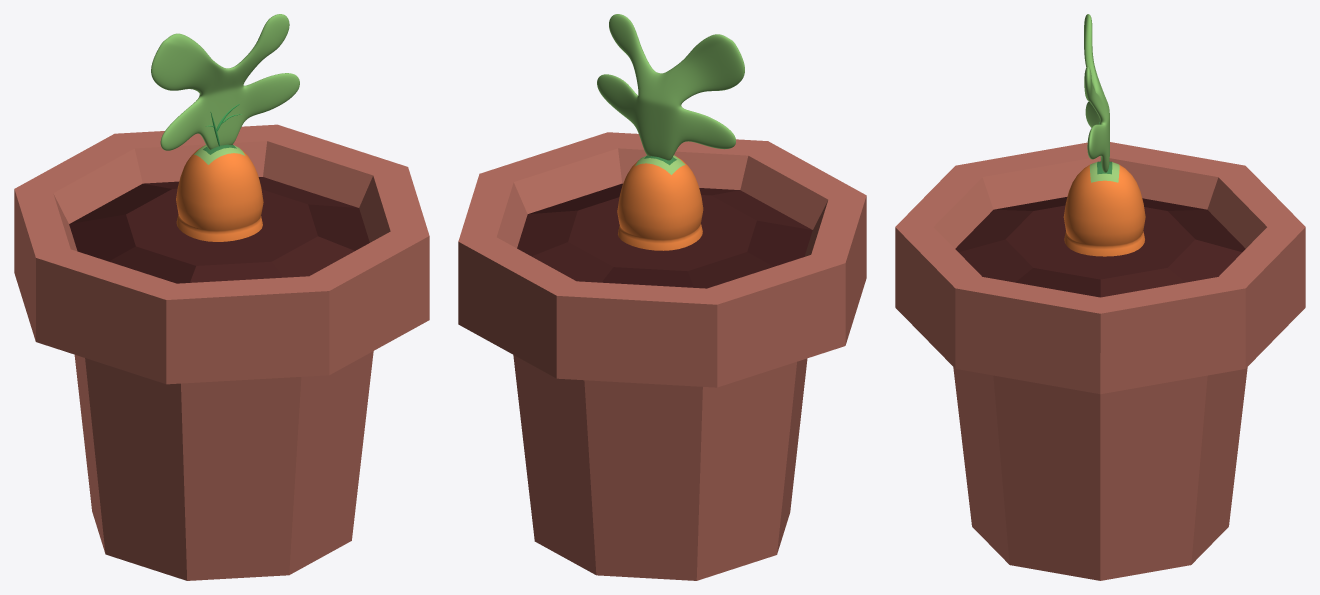
Rendered from wortel pot 4.fbx.
The picture shows the model from 3 angles, left to right: view 1: azimuth 30°, elevation 25°; view 2: azimuth 150°, elevation 25°; view 3: azimuth 270°, elevation 25°; orthographic projection. The views are drawn at different scales.
Parts seen in each view (by area): view 1: pot 1.004, Plane, wortel segar; view 2: pot 1.004, Plane, wortel segar; view 3: pot 1.004, wortel segar, Plane.
Part boxes in pixels (x1,y1,x2,y2): pot 1.004: [14, 124, 429, 580]; Plane: [151, 14, 299, 150]; wortel segar: [176, 144, 263, 241]; pot 1.004: [458, 132, 866, 580]; Plane: [597, 14, 744, 160]; wortel segar: [617, 155, 703, 250]; pot 1.004: [895, 142, 1305, 580]; wortel segar: [1063, 161, 1145, 256]; Plane: [1084, 14, 1109, 172].
Bounding box in the file's own units: 49.53 × 64.74 × 49.53.
